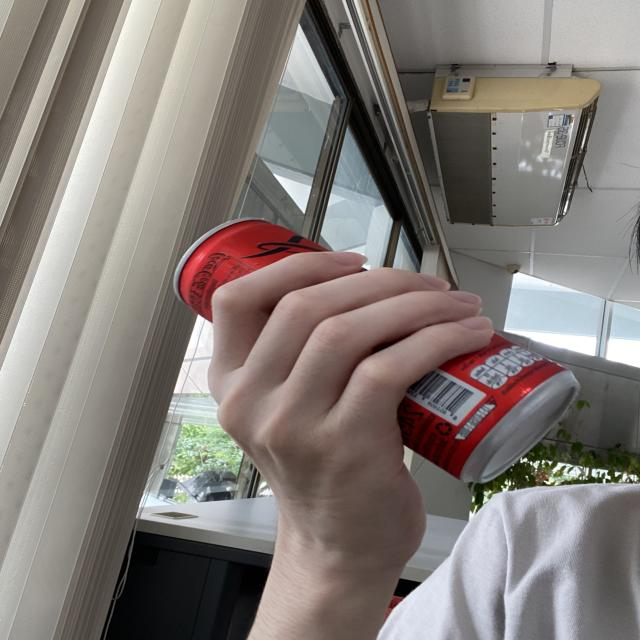can: (170, 217, 587, 486)
